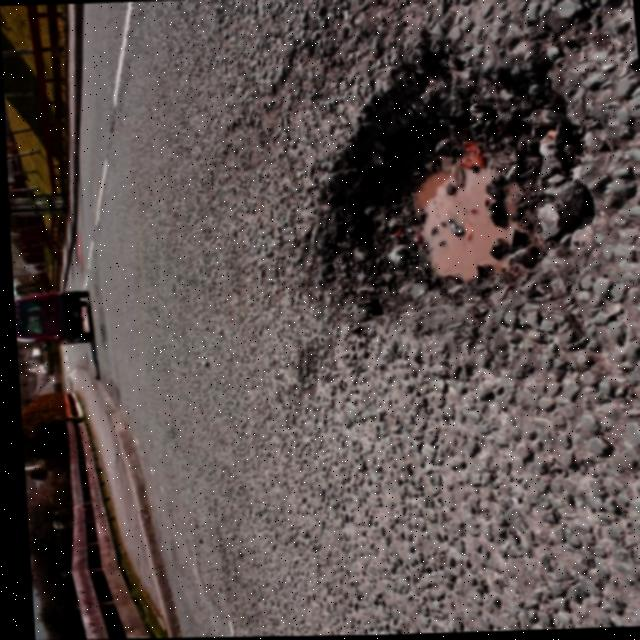Pothole: (240, 16, 550, 362)
